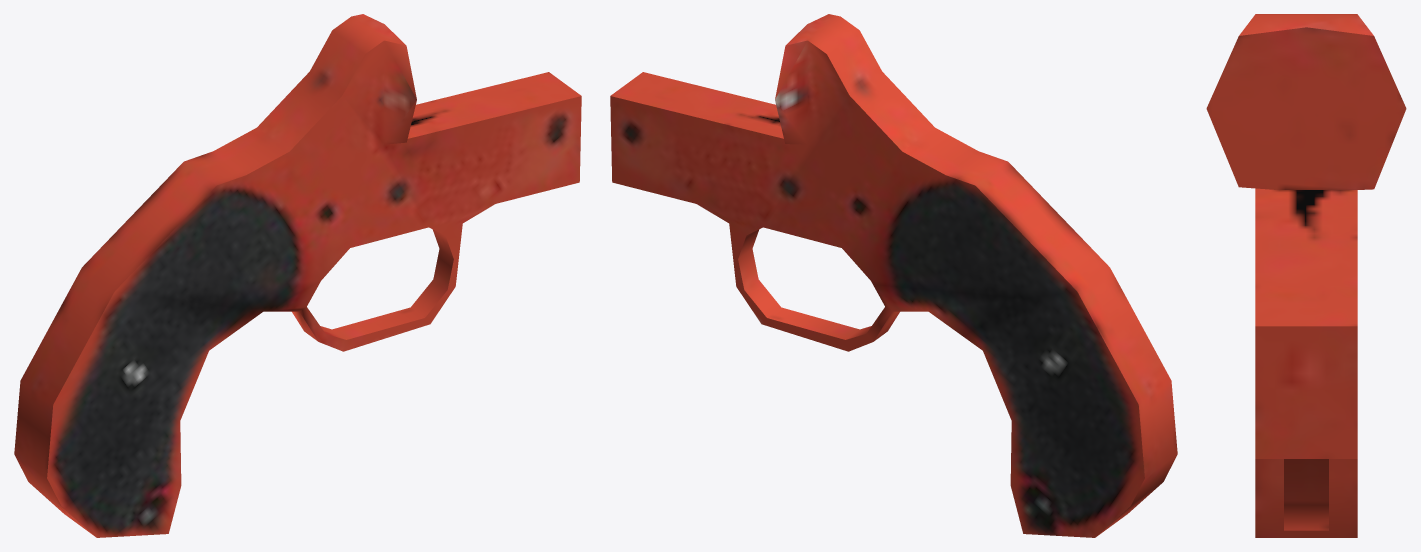
Rendered from Bengal.glb.
3 views of the same model, side by side, from view 1: azimuth 30°, elevation 25°; view 2: azimuth 150°, elevation 25°; view 3: azimuth 270°, elevation 25° (orthographic). The views are drawn at different scales.
Parts seen in each view (by area): view 1: Bengal; view 2: Bengal; view 3: Bengal.
Part boxes in pixels (bbox=[...]): Bengal: bbox=[14, 14, 581, 537]; Bengal: bbox=[610, 14, 1177, 537]; Bengal: bbox=[1206, 14, 1406, 537].
Size of the model in its own units: 0.2396 by 0.1889 by 0.0498.
Materials: 1 (1 with a texture image).
